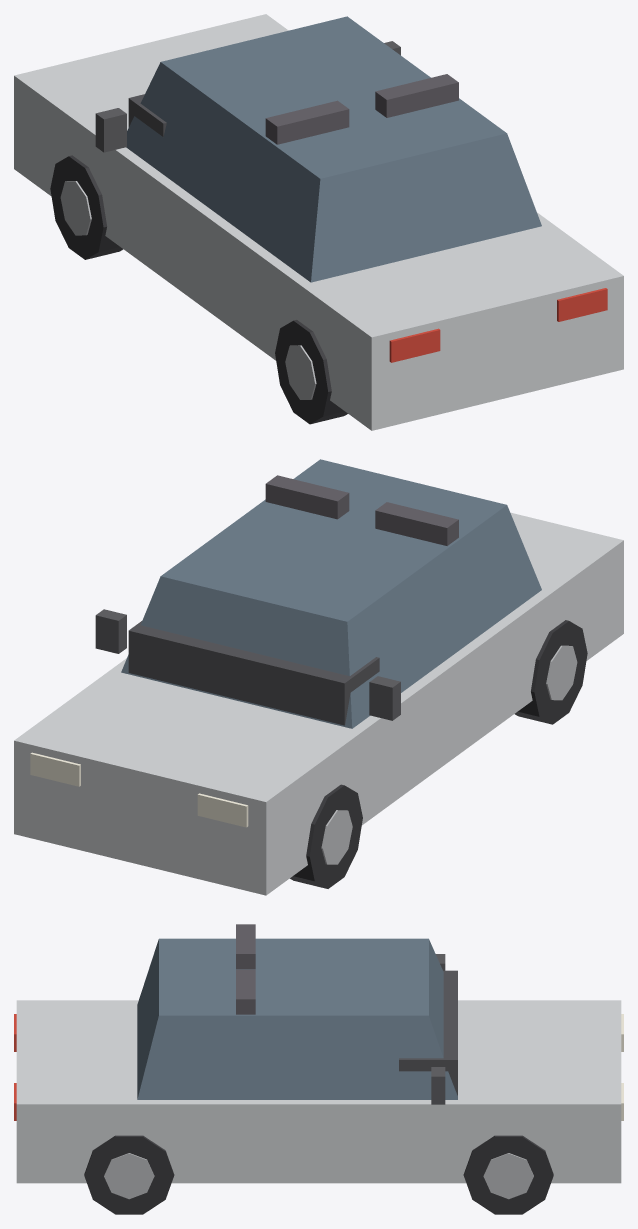
File: car_player.glb
The picture shows the model from 3 angles, top to bottom: view 1: azimuth 30°, elevation 25°; view 2: azimuth 150°, elevation 25°; view 3: azimuth 270°, elevation 25°; orthographic projection. The views are drawn at different scales.
Visible parts, largest first — view 1: car_player; view 2: car_player; view 3: car_player.
Boxes of the visible parts, box(x1,y1,x2,y2) form: car_player: box(14, 14, 623, 430); car_player: box(14, 459, 623, 895); car_player: box(14, 924, 623, 1214).
Bounding box in the file's own units: 2.06 × 1.56 × 4.34.
